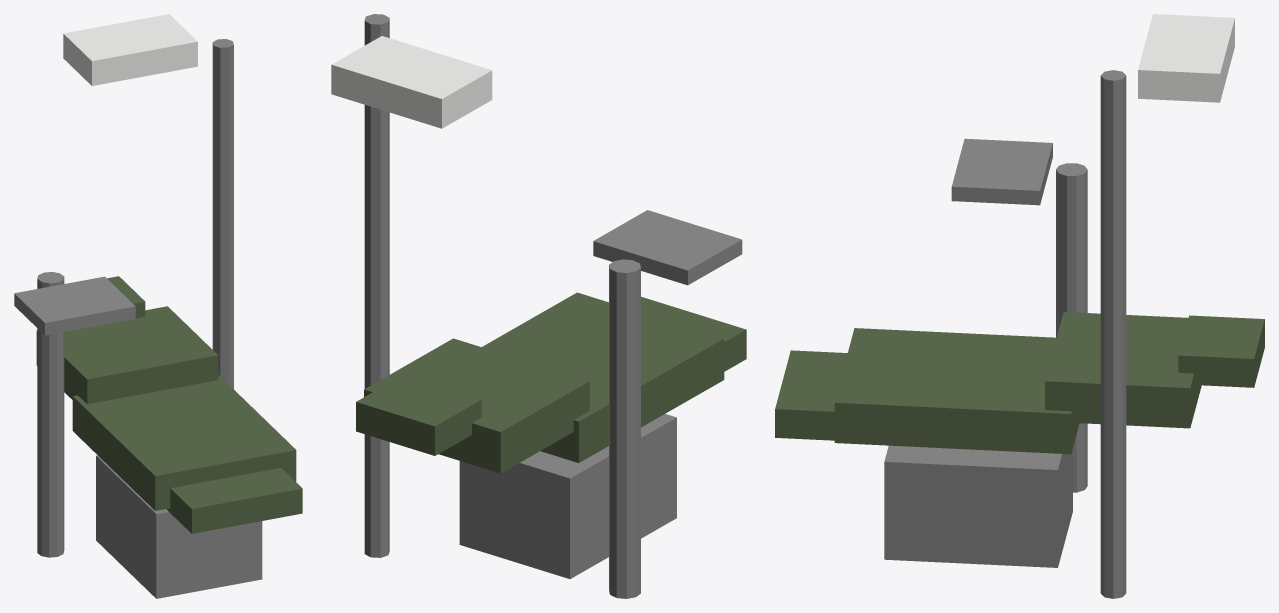
The picture shows the model from 3 angles, left to right: view 1: azimuth 30°, elevation 25°; view 2: azimuth 150°, elevation 25°; view 3: azimuth 270°, elevation 25°; orthographic projection. The views are drawn at different scales.
Parts seen in each view (by area): view 1: sillon_ortho_3; view 2: sillon_ortho_3; view 3: sillon_ortho_3.
Part boxes in pixels (x1=…): sillon_ortho_3: x1=14, y1=14, x2=302, y2=598; sillon_ortho_3: x1=331, y1=14, x2=746, y2=598; sillon_ortho_3: x1=775, y1=14, x2=1264, y2=598.
Size of the model in its own units: 1.06 by 1.54 by 1.8.
